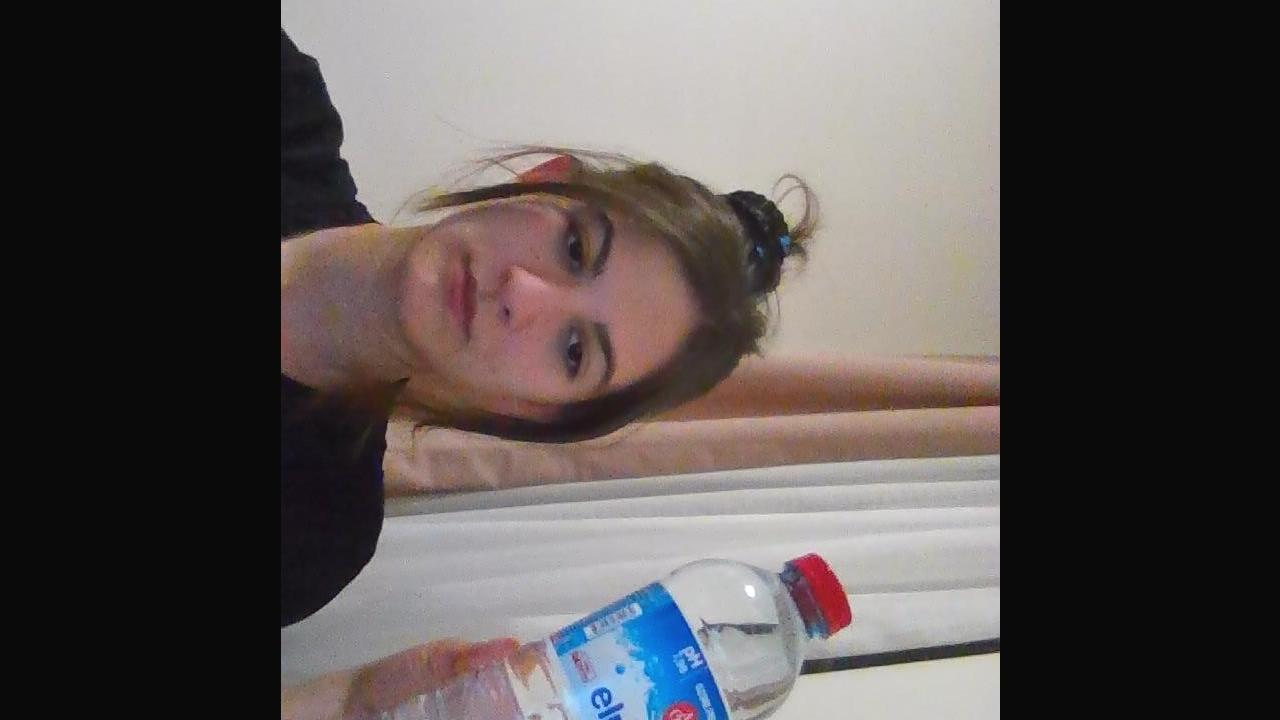bottle: (338, 552, 855, 720)
